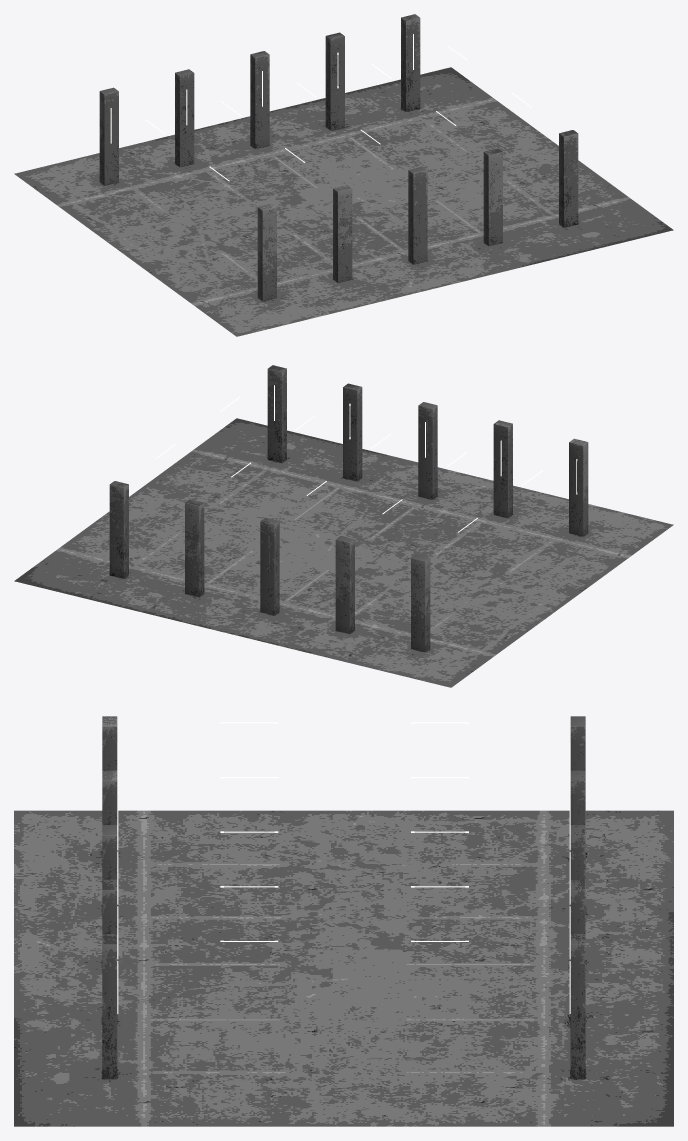
Rendered from carparkingscene.glb.
3 views of the same model, one above another, from view 1: azimuth 30°, elevation 25°; view 2: azimuth 150°, elevation 25°; view 3: azimuth 270°, elevation 25° (orthographic). The views are drawn at different scales.
Parts seen in each view (by area): view 1: Object_2, Object_3; view 2: Object_2, Object_3; view 3: Object_2, Object_3.
Boxes of the visible parts, left/top/right/bottom form: Object_2: left=14, top=14, right=673, bottom=336; Object_3: left=110, top=34, right=531, bottom=181; Object_2: left=14, top=365, right=673, bottom=687; Object_3: left=155, top=385, right=577, bottom=532; Object_2: left=14, top=716, right=673, bottom=1126; Object_3: left=117, top=722, right=570, bottom=1013.
Bounding box in the file's own units: 19.51 × 3.88 × 17.22.
2 materials, 1 textured.
